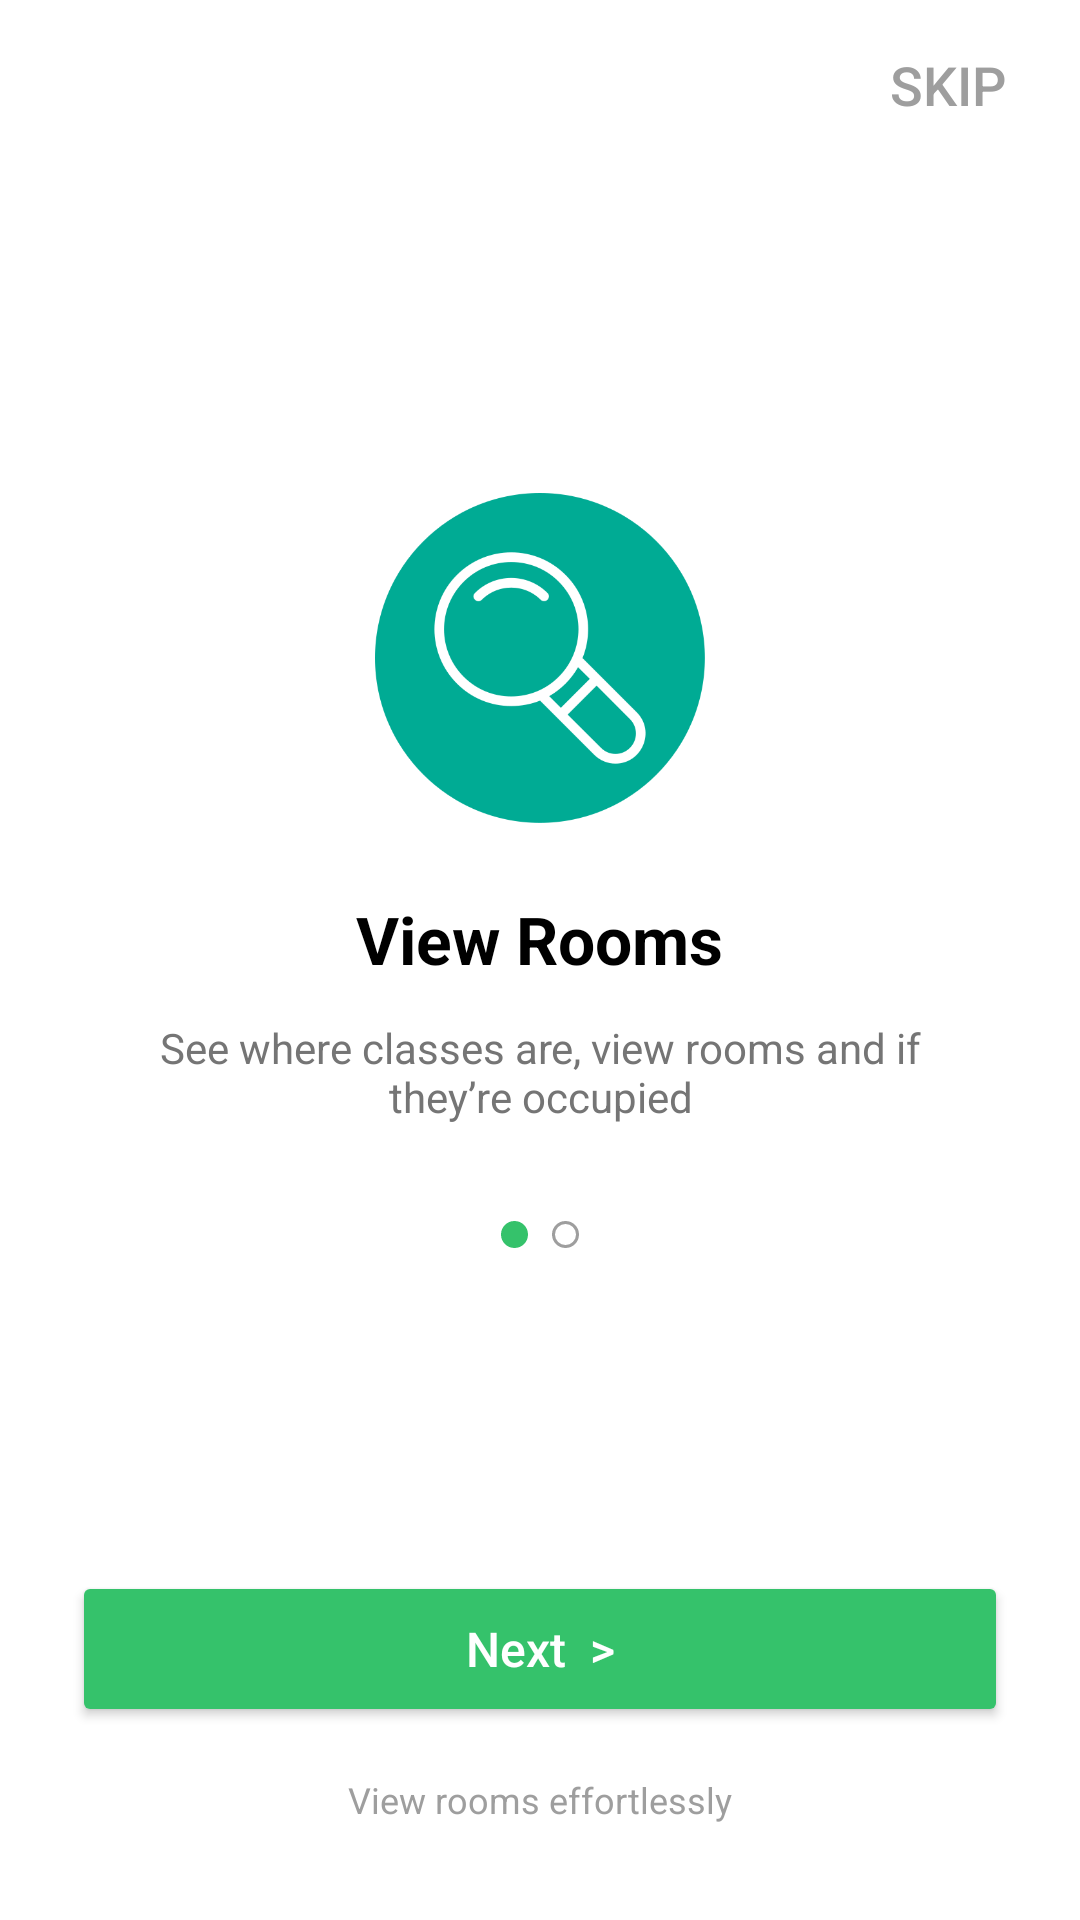

Icons on this 1080px×1920px Android screen, each with the point to tap as [x,y]:
indicator dot: [514,1234], [565,1234]
